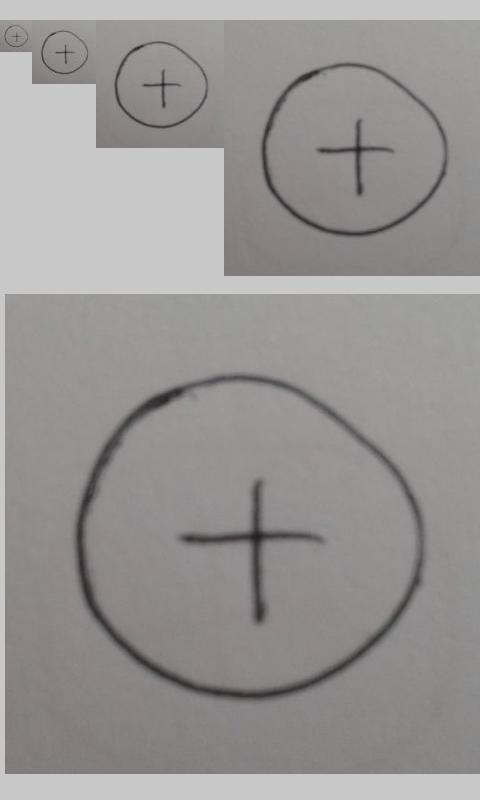button: (73, 373, 425, 703), (260, 61, 449, 238), (114, 41, 210, 129), (40, 30, 89, 75), (4, 24, 29, 48)
